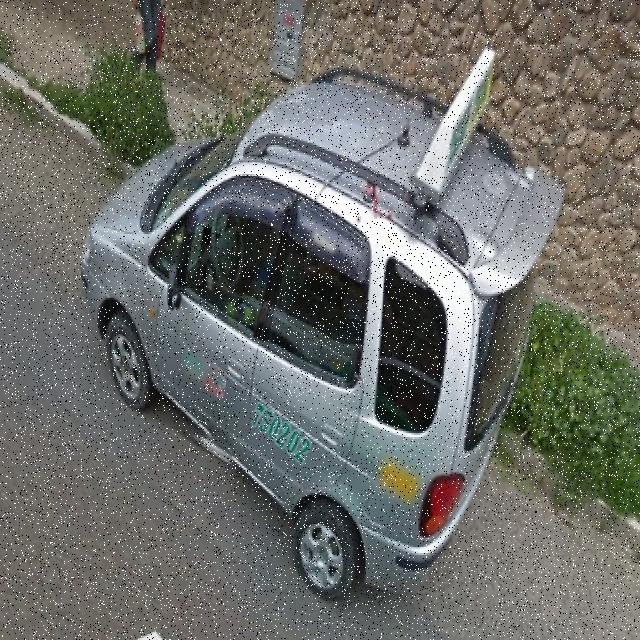cars: (86, 21, 554, 598)
